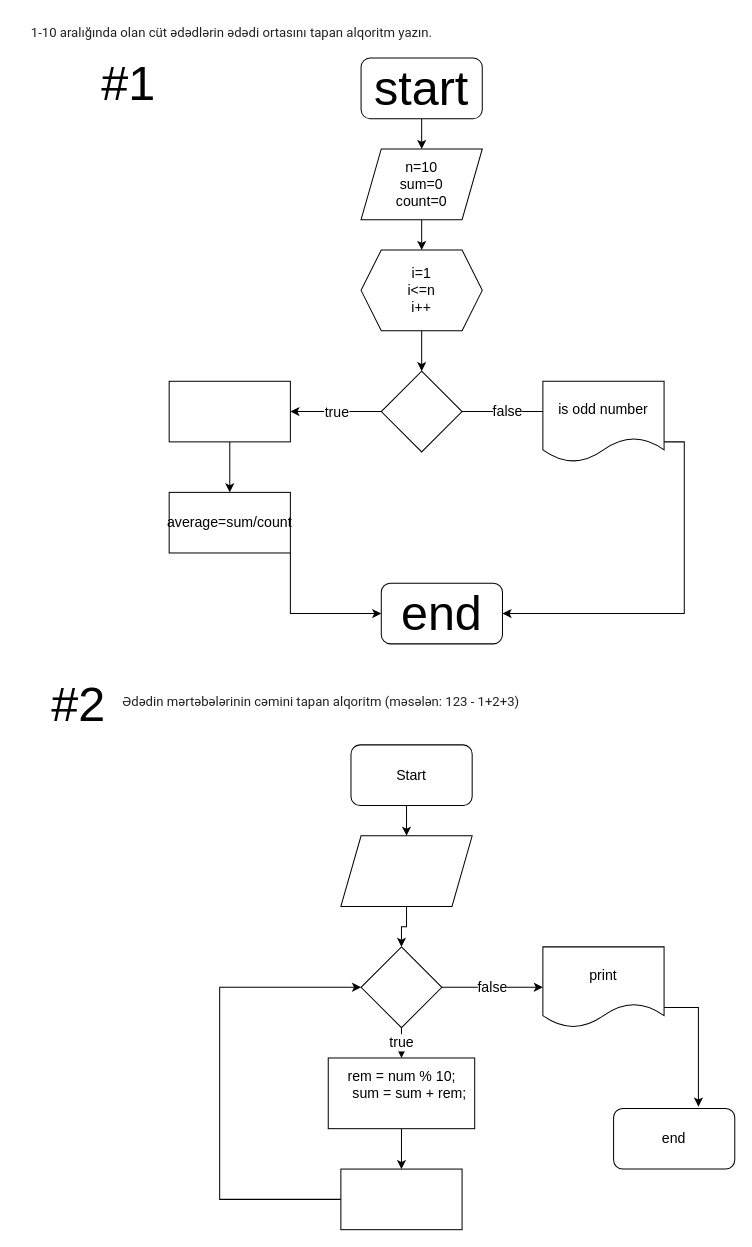
Image size: 752x1247. Some labels were removed from this diagram. Each missing label, with the centre of its shape:
"get number num=123 rem=0 sum=0" goes at [406,870].
"n%2==0" goes at [421,411].
"n>0" goes at [401,987].
"num=num/10" goes at [401,1199].
"sum=sum+i count++" goes at [229,411].
